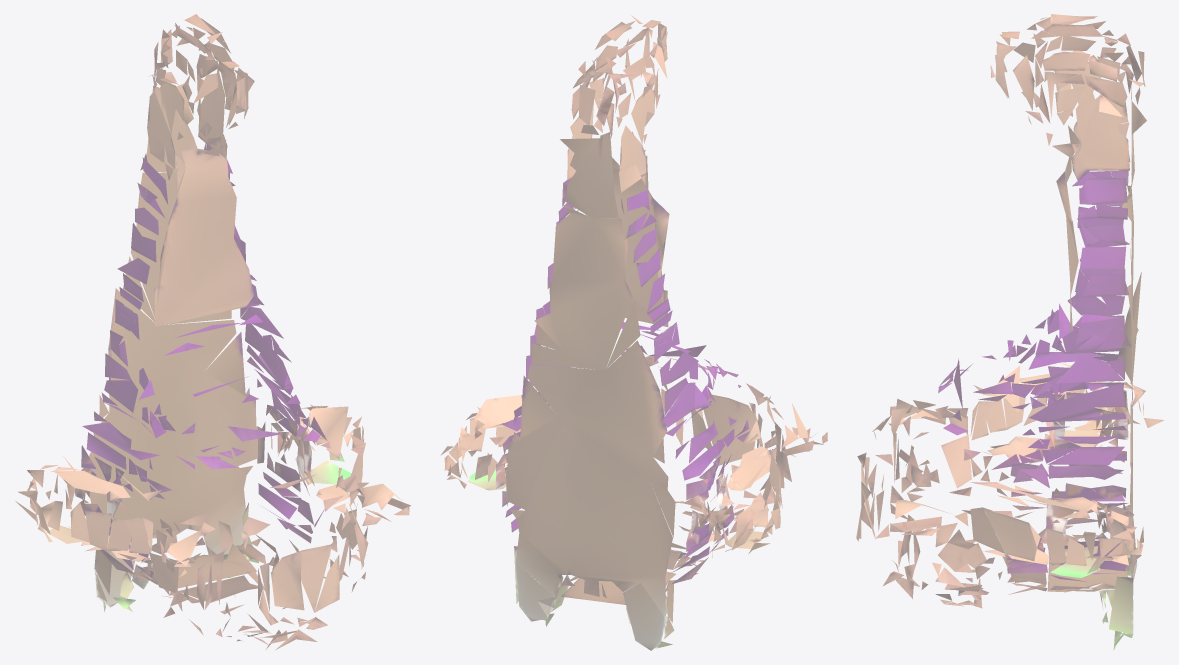
Rendered from goblin.glb.
The picture shows the model from 3 angles, left to right: view 1: azimuth 30°, elevation 25°; view 2: azimuth 150°, elevation 25°; view 3: azimuth 270°, elevation 25°; orthographic projection.
Parts seen in each view (by area): view 1: HyperGoblin; view 2: HyperGoblin; view 3: HyperGoblin.
Part boxes in pixels (box(x1,y1,x2,y2)): HyperGoblin: box(15, 14, 410, 650); HyperGoblin: box(440, 14, 827, 650); HyperGoblin: box(856, 14, 1164, 650).
Size of the model in its own units: 1.1 by 1.93 by 0.8876.
Materials: 1 (1 with a texture image).
